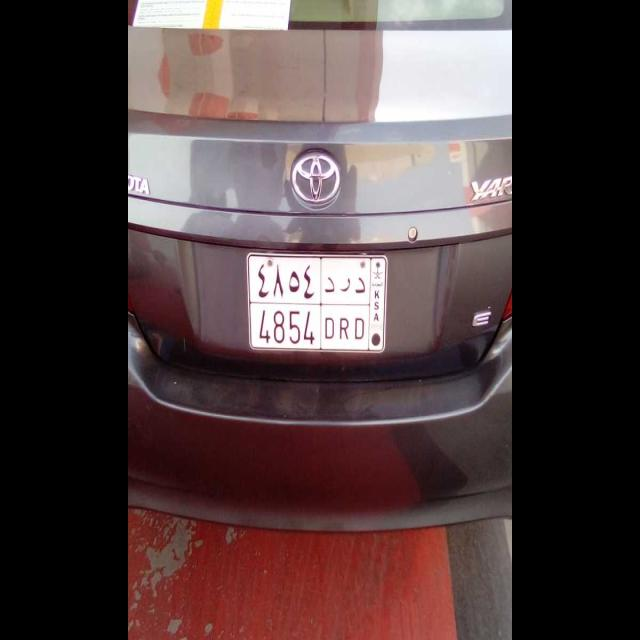license_plate: (248, 301, 370, 355)
